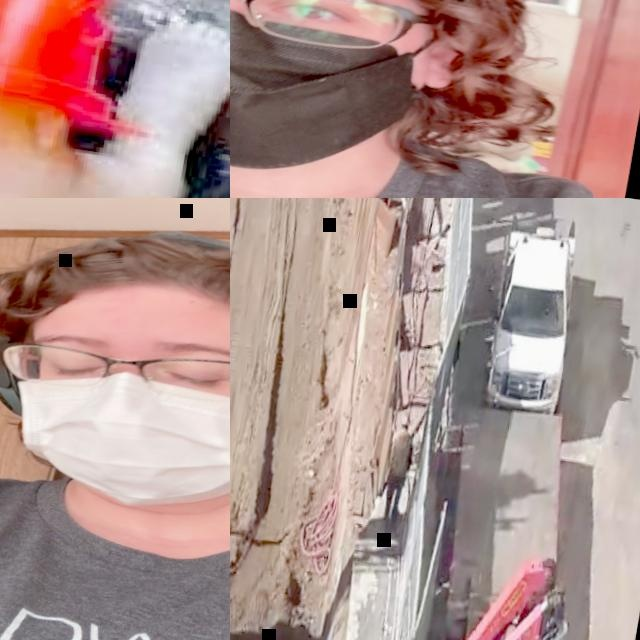Hardhat: (6, 206, 230, 352), (400, 416, 413, 427)
Mask: (230, 0, 444, 197), (0, 350, 230, 524)
NO-Safety Vest: (230, 80, 630, 198), (0, 440, 230, 640)
Person: (0, 198, 230, 640), (230, 0, 640, 198), (380, 414, 421, 524)
Safety Cone: (0, 0, 207, 146)
machinery: (439, 544, 584, 640)
vehicle: (477, 211, 592, 420)
